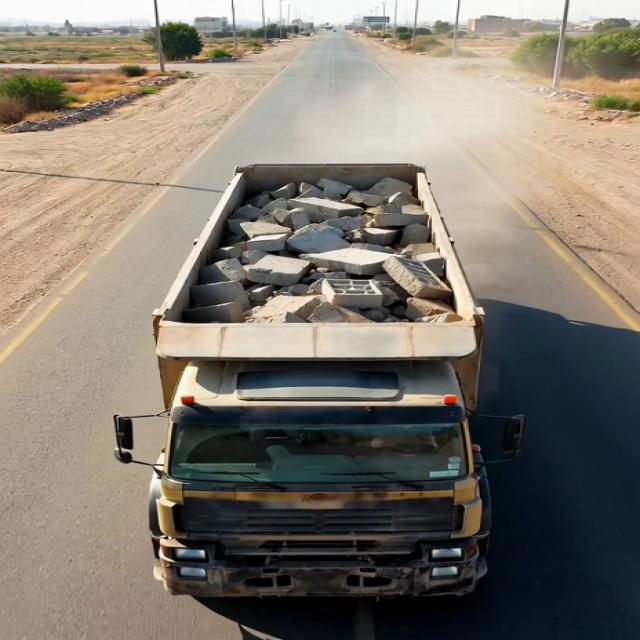trailer: (169, 162, 479, 402)
truck: (106, 132, 506, 600)
